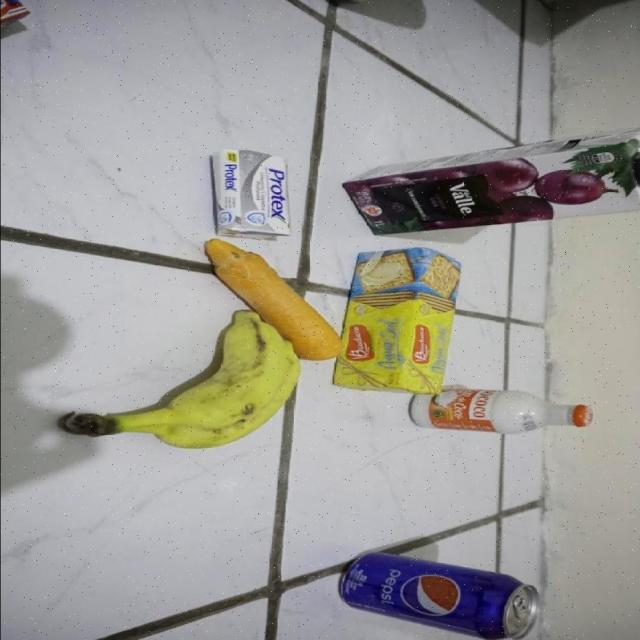Banana: (73, 311, 300, 449)
Carrot: (202, 241, 345, 360)
CoconutMilk: (407, 390, 591, 434)
Cracker: (330, 246, 462, 397)
Soap: (212, 150, 292, 237)
SodaCan: (338, 554, 540, 640)
